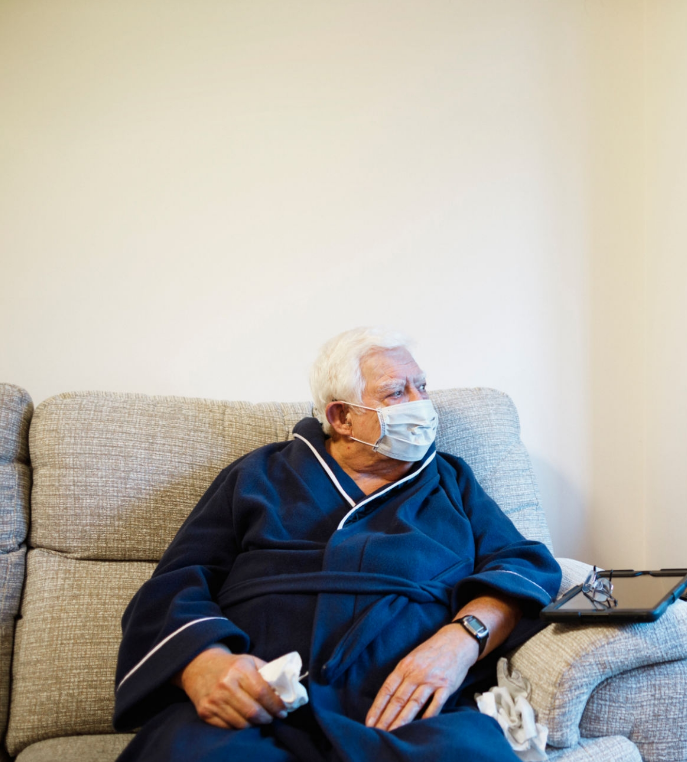with_mask: (313, 337, 439, 465)
